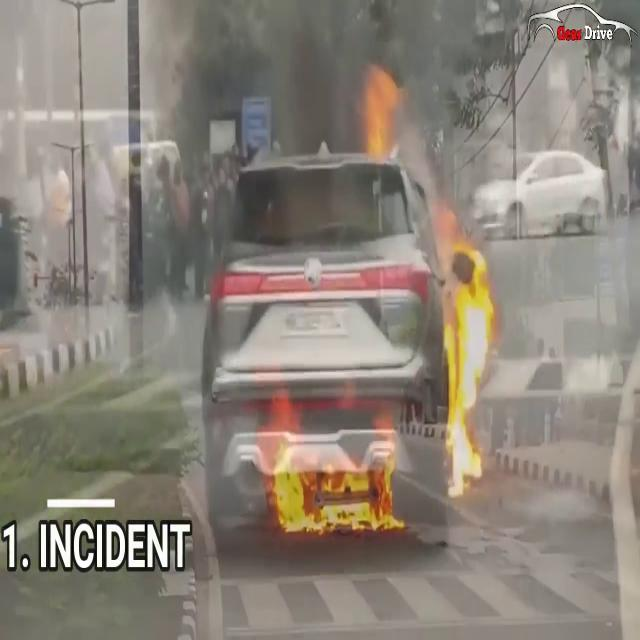Fire: (246, 393, 409, 539), (428, 213, 502, 492), (354, 56, 410, 168)
